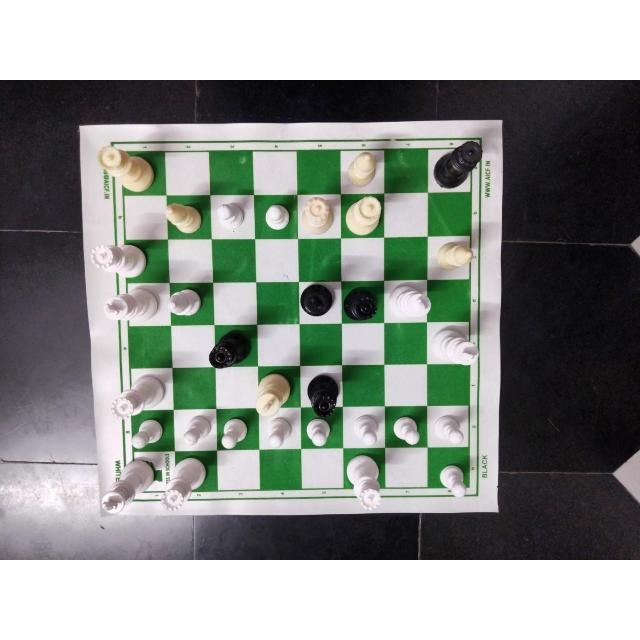black-king: (297, 283, 337, 321)
black-queen: (429, 139, 485, 190), (207, 328, 257, 372), (302, 373, 343, 423), (342, 283, 382, 324)
white-bishop: (341, 150, 383, 189), (433, 237, 477, 274), (162, 200, 206, 236), (165, 286, 206, 320)
white-king: (101, 457, 159, 516), (102, 286, 162, 325), (428, 328, 480, 367), (253, 371, 295, 419), (386, 285, 434, 323)
white-pawn: (435, 466, 471, 502), (431, 413, 468, 447), (389, 414, 423, 450), (300, 414, 334, 450), (130, 415, 166, 449), (217, 418, 251, 453), (176, 416, 213, 448), (260, 417, 294, 451), (212, 199, 245, 232), (349, 414, 381, 448), (258, 201, 294, 231)
white-queen: (92, 143, 157, 195), (108, 374, 168, 421), (88, 240, 156, 281), (161, 456, 209, 512), (342, 453, 384, 513), (344, 193, 384, 237), (297, 197, 337, 237)
